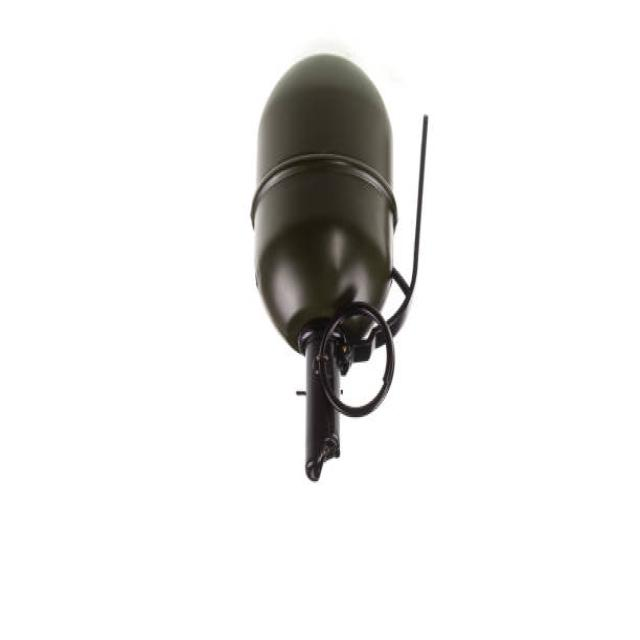grenade: (248, 48, 436, 491)
